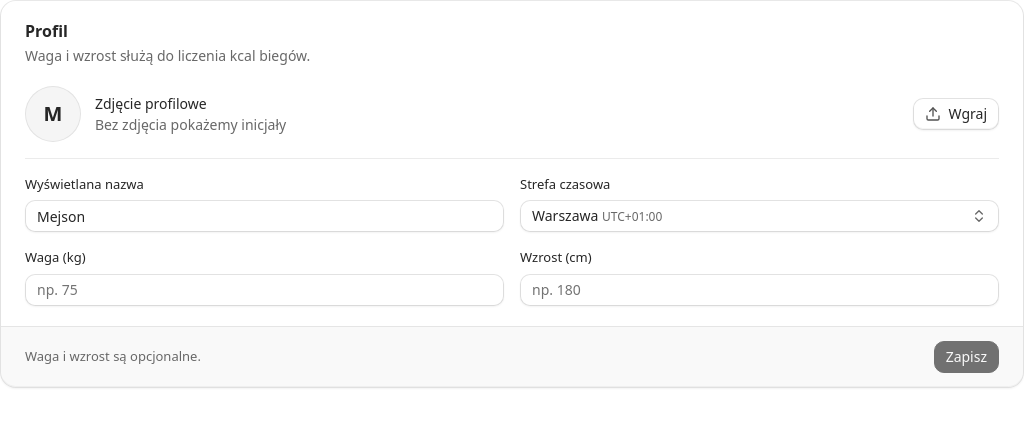
ProfileCard › ponowna zmiana po zapisie chowa „Zapisano ✓”
Type "180" into the field labelled "Wzrost (cm)" at (760, 290), box left=520, top=274, right=999, bottom=306
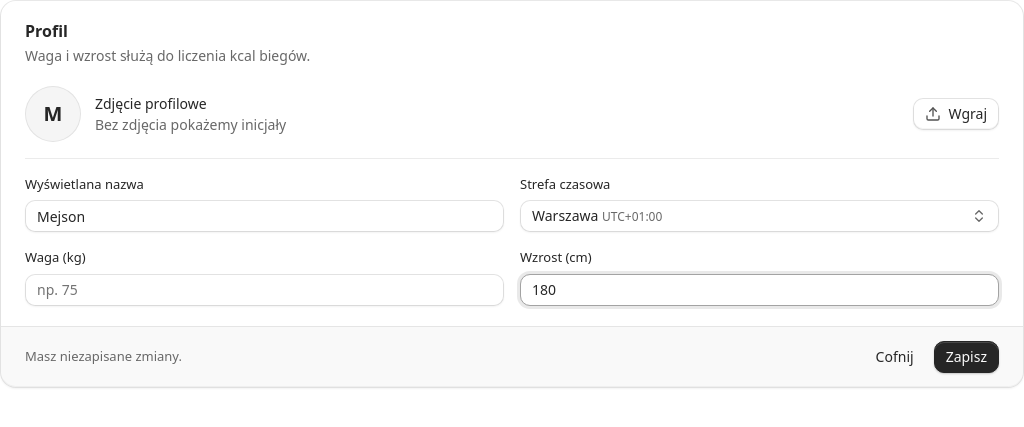
Click the button "Zapisz" at (966, 357), box left=934, top=341, right=999, bottom=373
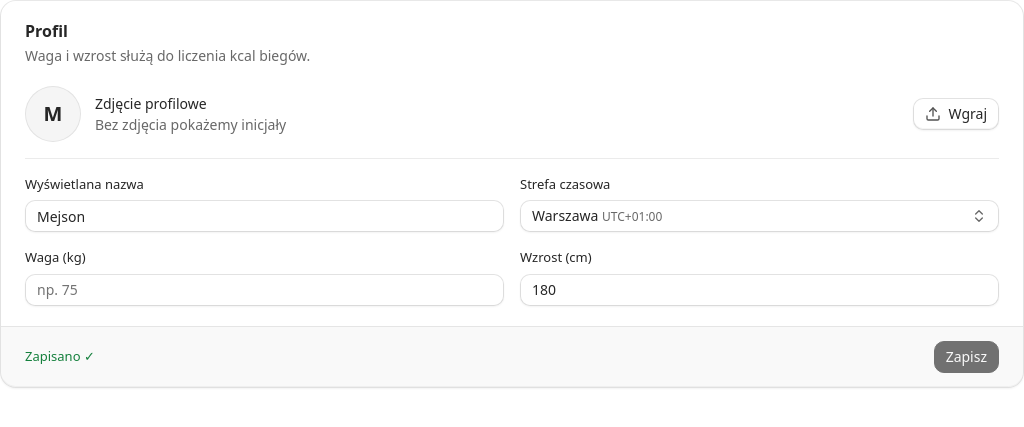
Now the text "Zapisano ✓" is shown, box left=25, top=347, right=95, bottom=366
Type "1" into the field labelled "Wzrost (cm)" at (760, 290), box left=520, top=274, right=999, bottom=306
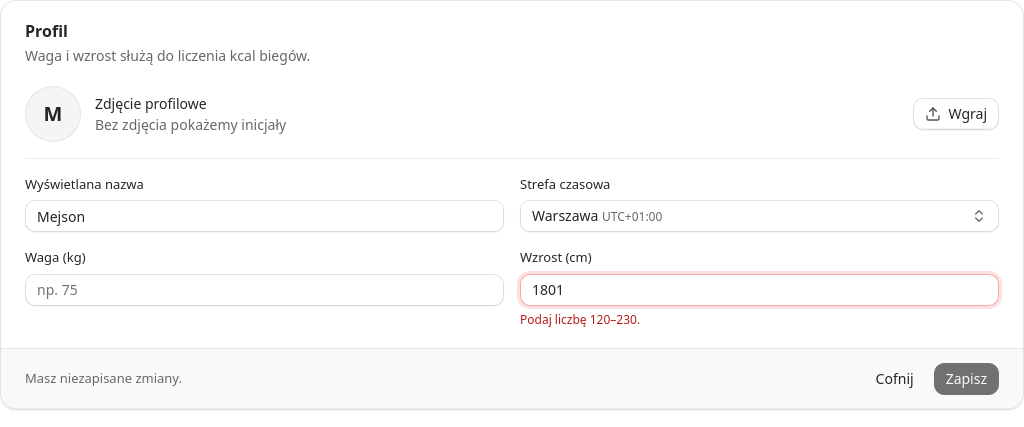
Now the text "Zapisano ✓" is gone
Now the text "Masz niezapisane zmiany." is shown, box left=25, top=369, right=182, bottom=388
